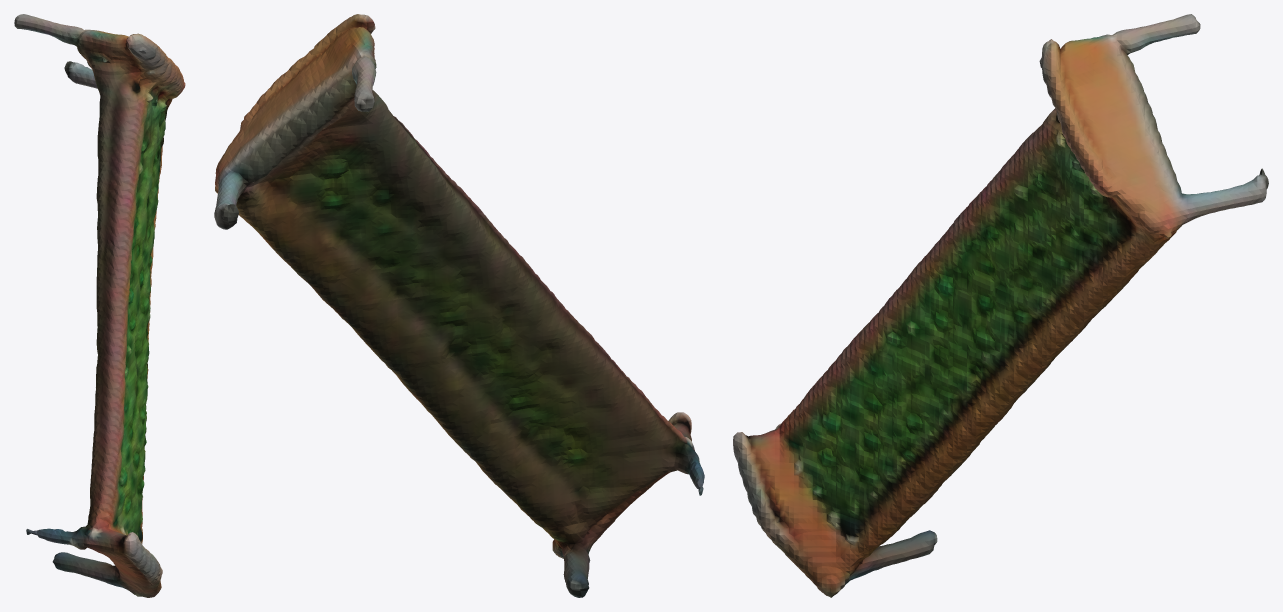
The picture shows the model from 3 angles, left to right: view 1: azimuth 30°, elevation 25°; view 2: azimuth 150°, elevation 25°; view 3: azimuth 270°, elevation 25°; orthographic projection. The views are drawn at different scales.
Size of the model in its own units: 0.5548 by 0.9621 by 0.7811.
